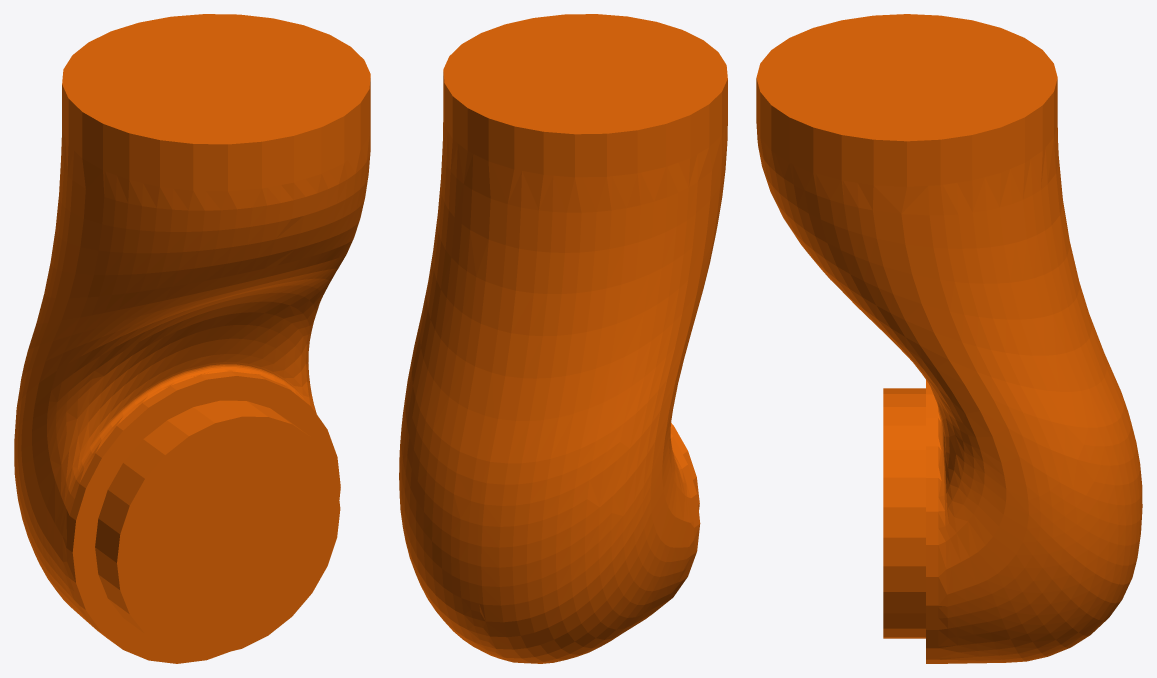
3 views of the same model, side by side, from view 1: azimuth 30°, elevation 25°; view 2: azimuth 150°, elevation 25°; view 3: azimuth 270°, elevation 25° (orthographic). The views are drawn at different scales.
Visible parts, largest first — view 1: link_2; view 2: link_2; view 3: link_2.
Part boxes in pixels (bbox=[...]): link_2: bbox=[14, 14, 370, 663]; link_2: bbox=[399, 14, 727, 663]; link_2: bbox=[756, 14, 1142, 663].
Bounding box in the file's own units: 0.12 × 0.1538 × 0.2515.
